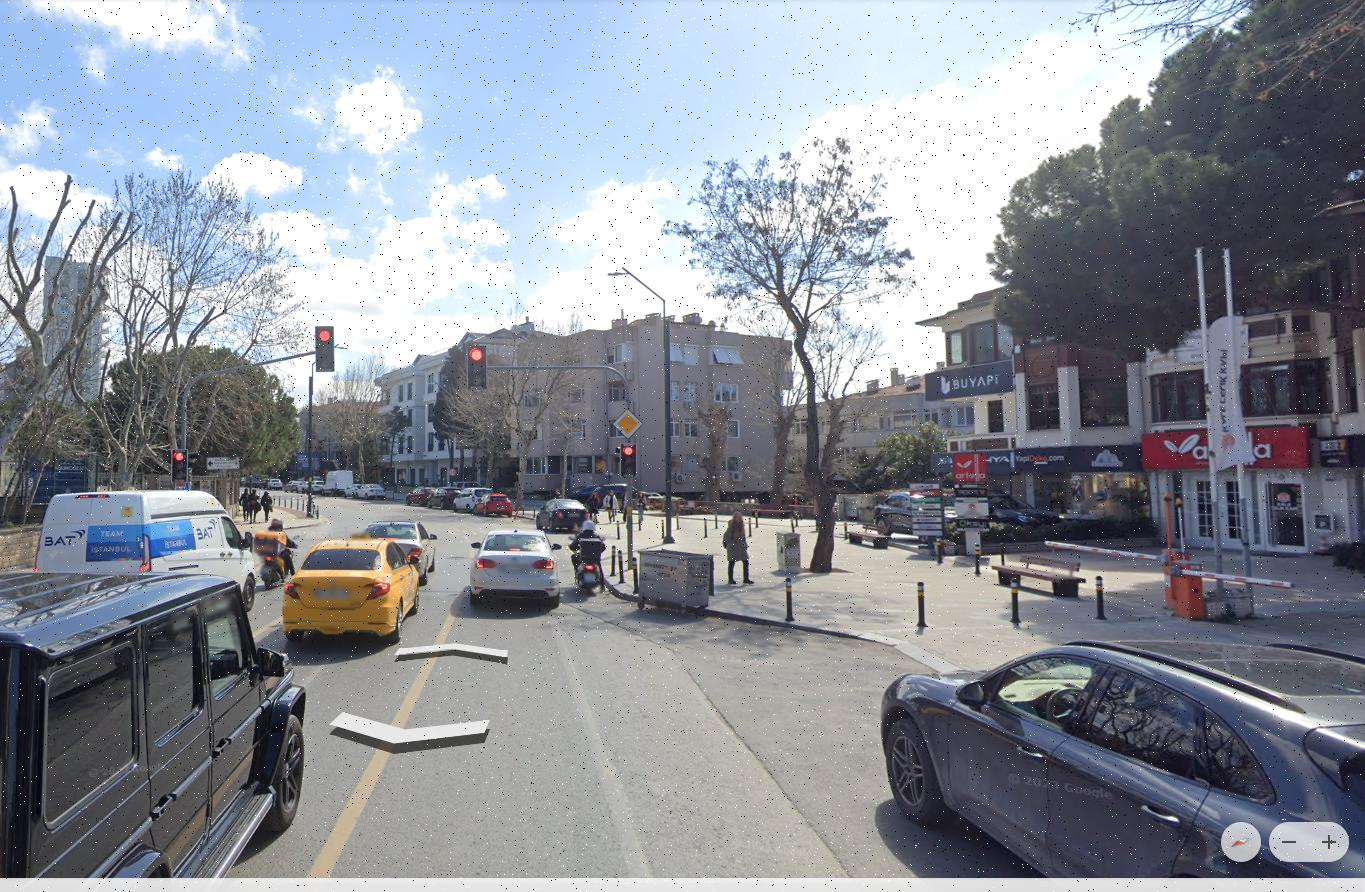redlight: (314, 325, 336, 370), (468, 345, 486, 387), (172, 449, 188, 483), (620, 445, 635, 477)
